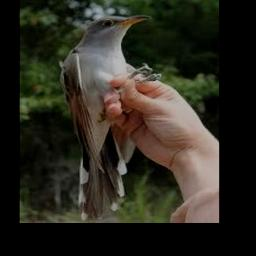Cuckoo: (60, 15, 158, 220)
